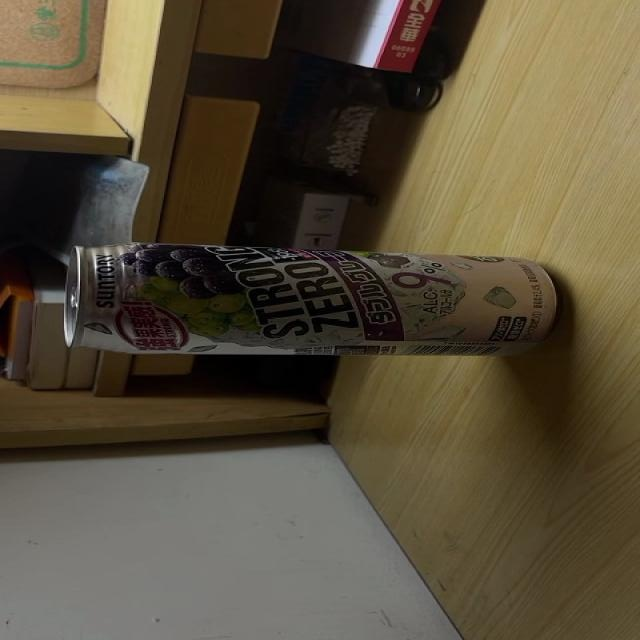Liquor: (61, 244, 565, 355)
